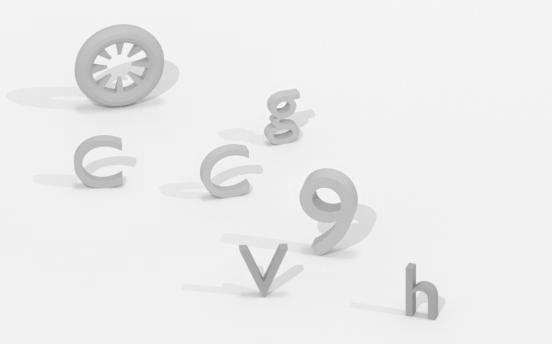chu_khoi: (200, 144, 250, 197), (239, 244, 288, 297), (74, 135, 122, 187), (264, 89, 299, 144), (405, 263, 438, 319)
dia_sao: (74, 24, 164, 106)
so_khoi: (300, 168, 357, 254)
